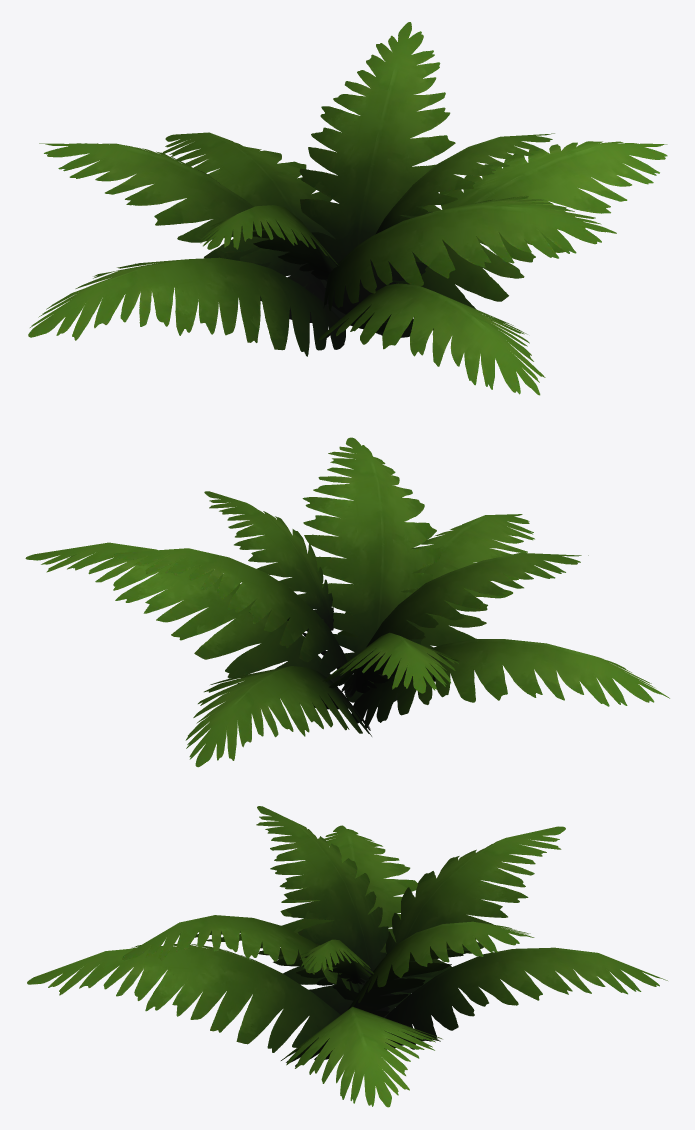
File: Fern_1.glb
3 renders of one model, top to bottom at view 1: azimuth 30°, elevation 25°; view 2: azimuth 150°, elevation 25°; view 3: azimuth 270°, elevation 25°, orthographic. The views are drawn at different scales.
Parts seen in each view (by area): view 1: Fern_1; view 2: Fern_1; view 3: Fern_1.
Part boxes in pixels (x1,y1,x2,y2): Fern_1: [28, 22, 667, 395]; Fern_1: [25, 437, 669, 767]; Fern_1: [27, 806, 667, 1107].
Bounding box in the file's own units: 2.83 × 0.8404 × 2.65.
1 material, 1 textured.
